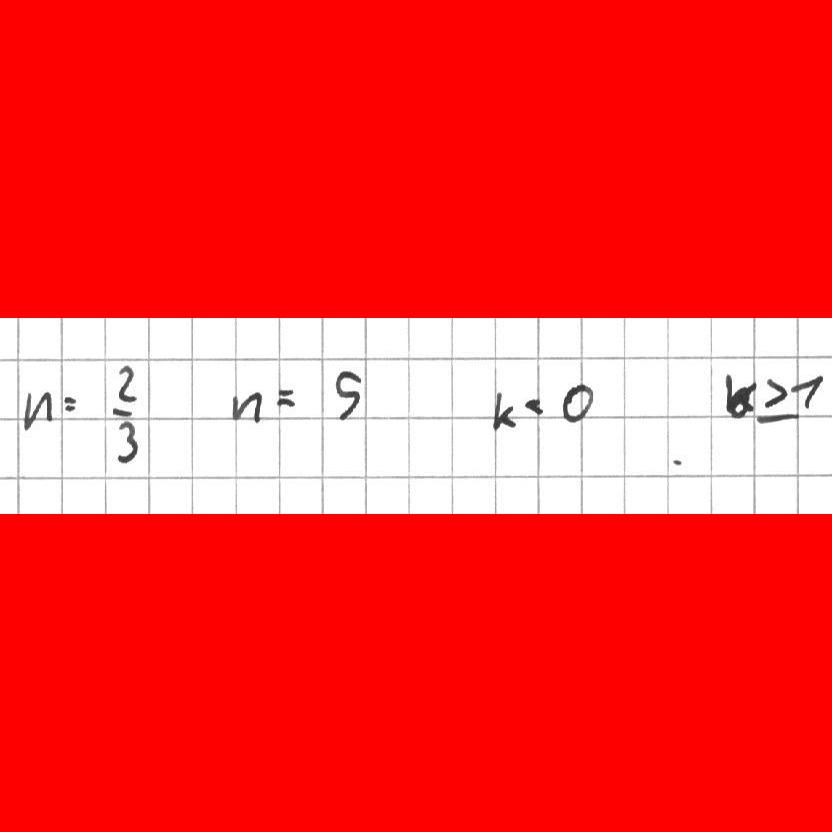Char: (753, 371, 800, 423), (330, 368, 366, 421), (720, 372, 756, 419), (557, 381, 597, 422), (228, 387, 268, 427), (21, 388, 57, 432), (789, 371, 826, 412), (111, 419, 141, 465), (489, 384, 518, 431), (114, 362, 142, 405), (273, 384, 299, 410), (522, 396, 545, 417), (62, 391, 80, 415), (109, 403, 135, 419)
